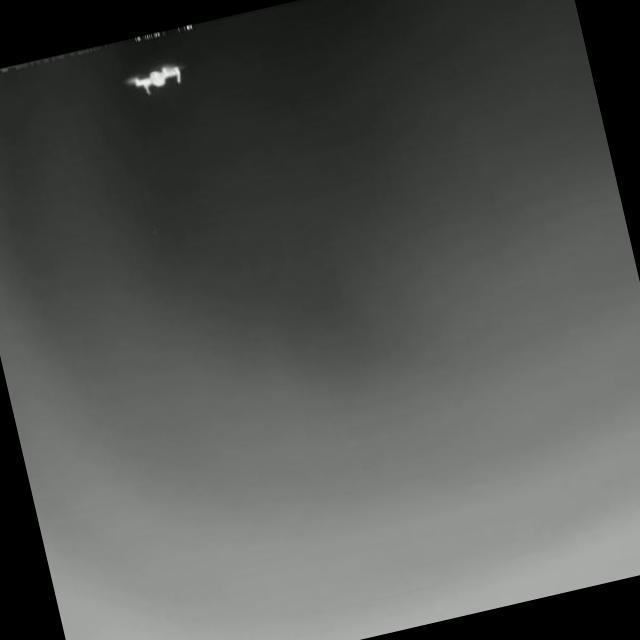DRONE: (124, 61, 186, 96)
